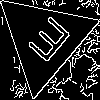E: (19, 15, 73, 72)
